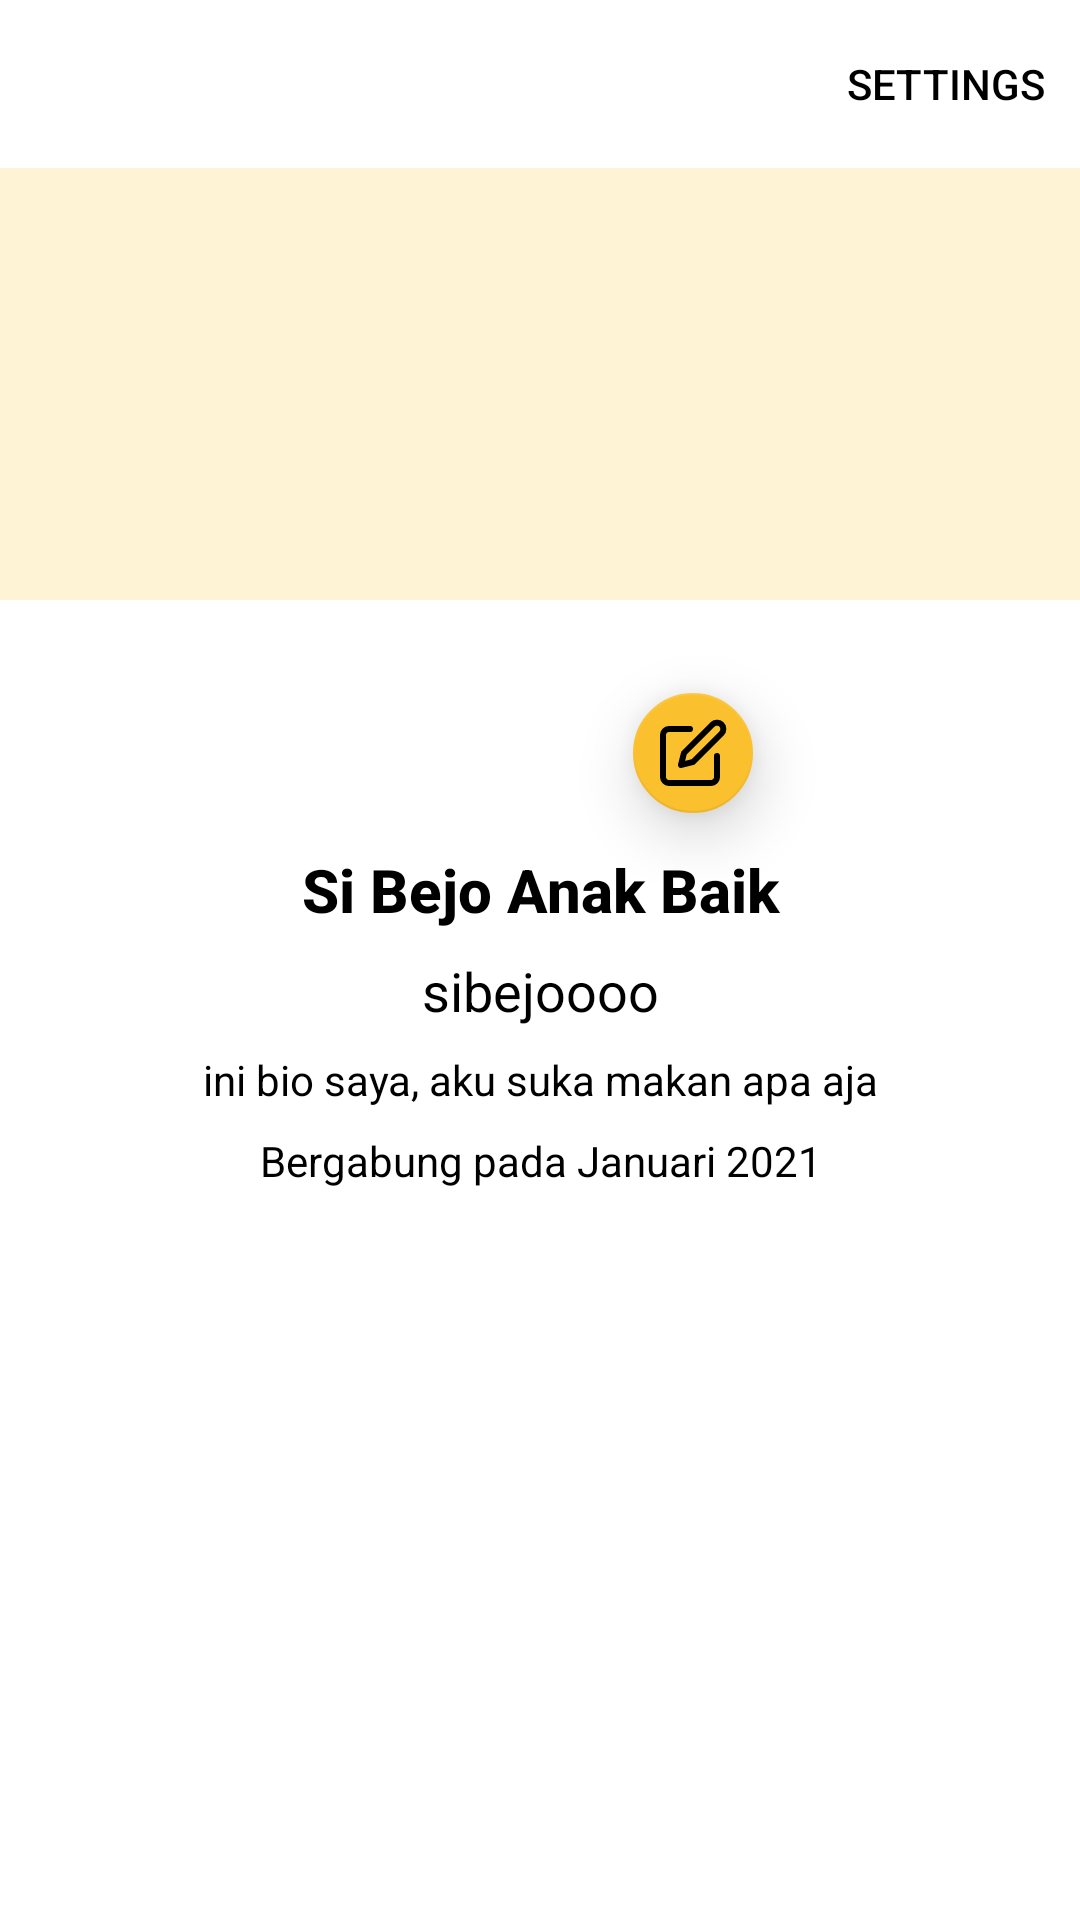

Where icons sit on this 1080*1920 app screen, as box(x1, y1, x2, y2):
edit: box(633, 693, 753, 821)
